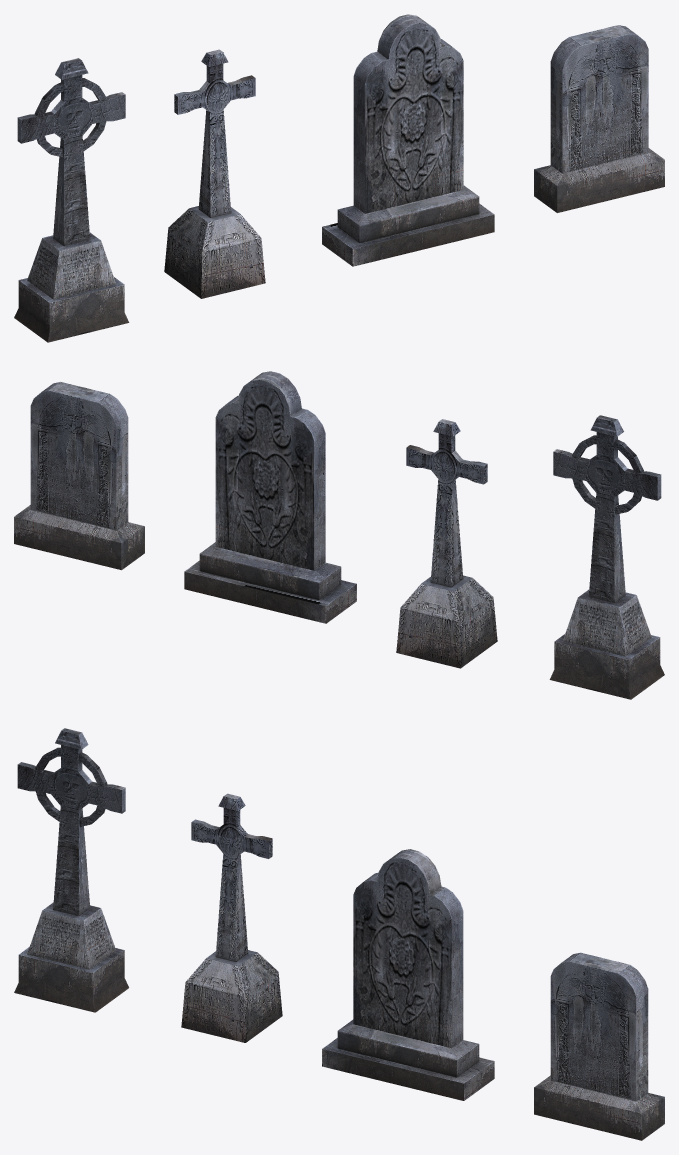
File: headstones.obj
The picture shows the model from 3 angles, top to bottom: view 1: azimuth 30°, elevation 25°; view 2: azimuth 150°, elevation 25°; view 3: azimuth 330°, elevation 25°; orthographic projection.
Visible parts, largest first — view 1: grave_a, grave_b, grave_c, grave_d; view 2: grave_a, grave_b, grave_c, grave_d; view 3: grave_a, grave_b, grave_c, grave_d.
Boxes of the visible parts, x1,y1,x2,y2 form: grave_a: (322,14,494,266); grave_b: (534,25,664,212); grave_c: (14,58,129,342); grave_d: (164,49,265,298); grave_a: (184,371,356,623); grave_b: (14,382,144,570); grave_c: (549,415,664,699); grave_d: (396,419,497,668); grave_a: (322,849,494,1100); grave_b: (534,952,664,1140); grave_c: (14,728,128,1012); grave_d: (181,793,282,1042).
Bounding box in the file's own units: 847 × 331 × 102.
